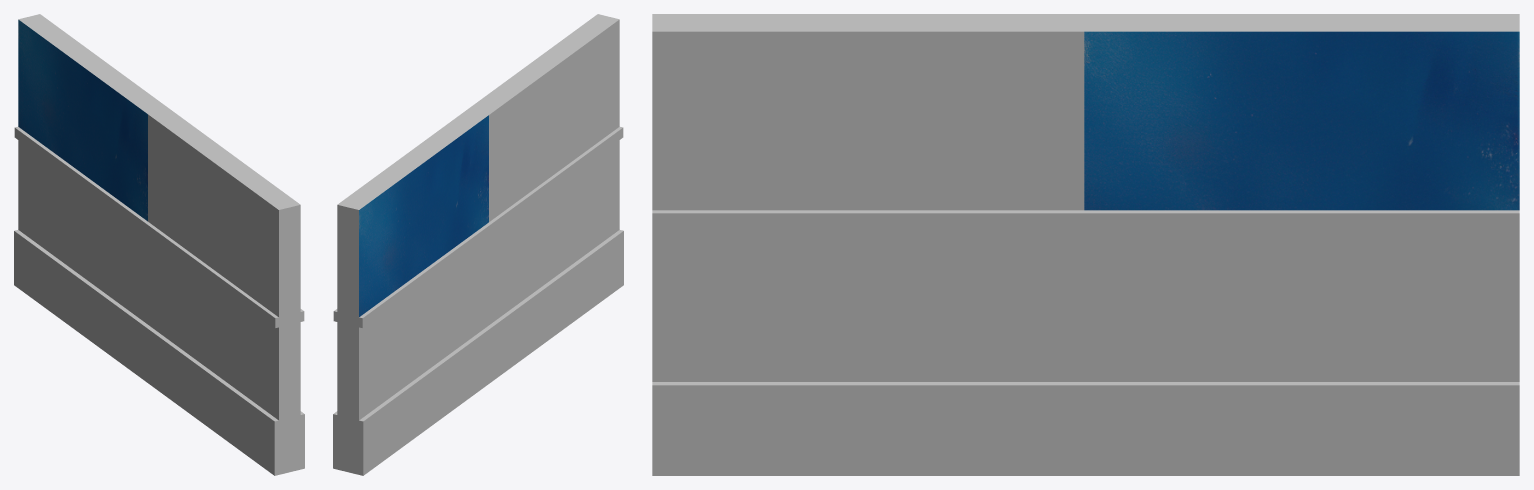
File: WallH&S.fbx
The picture shows the model from 3 angles, left to right: view 1: azimuth 30°, elevation 25°; view 2: azimuth 150°, elevation 25°; view 3: azimuth 270°, elevation 25°; orthographic projection. The views are drawn at different scales.
Parts seen in each view (by area): view 1: Cube.002, Cube.001; view 2: Cube.001, Cube.002; view 3: Cube.001, Cube.002.
Boxes of the visible parts, <box> form: Cube.002: <box>144,109,304,475</box>; Cube.001: <box>14,14,170,379</box>; Cube.001: <box>333,109,493,475</box>; Cube.002: <box>467,14,623,380</box>; Cube.001: <box>1084,14,1519,475</box>; Cube.002: <box>652,14,1087,475</box>.
Bounding box in the file's own units: 212 × 1777 × 3168.
